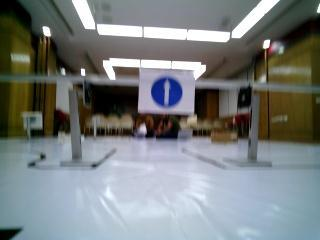straight: (138, 68, 194, 115)
